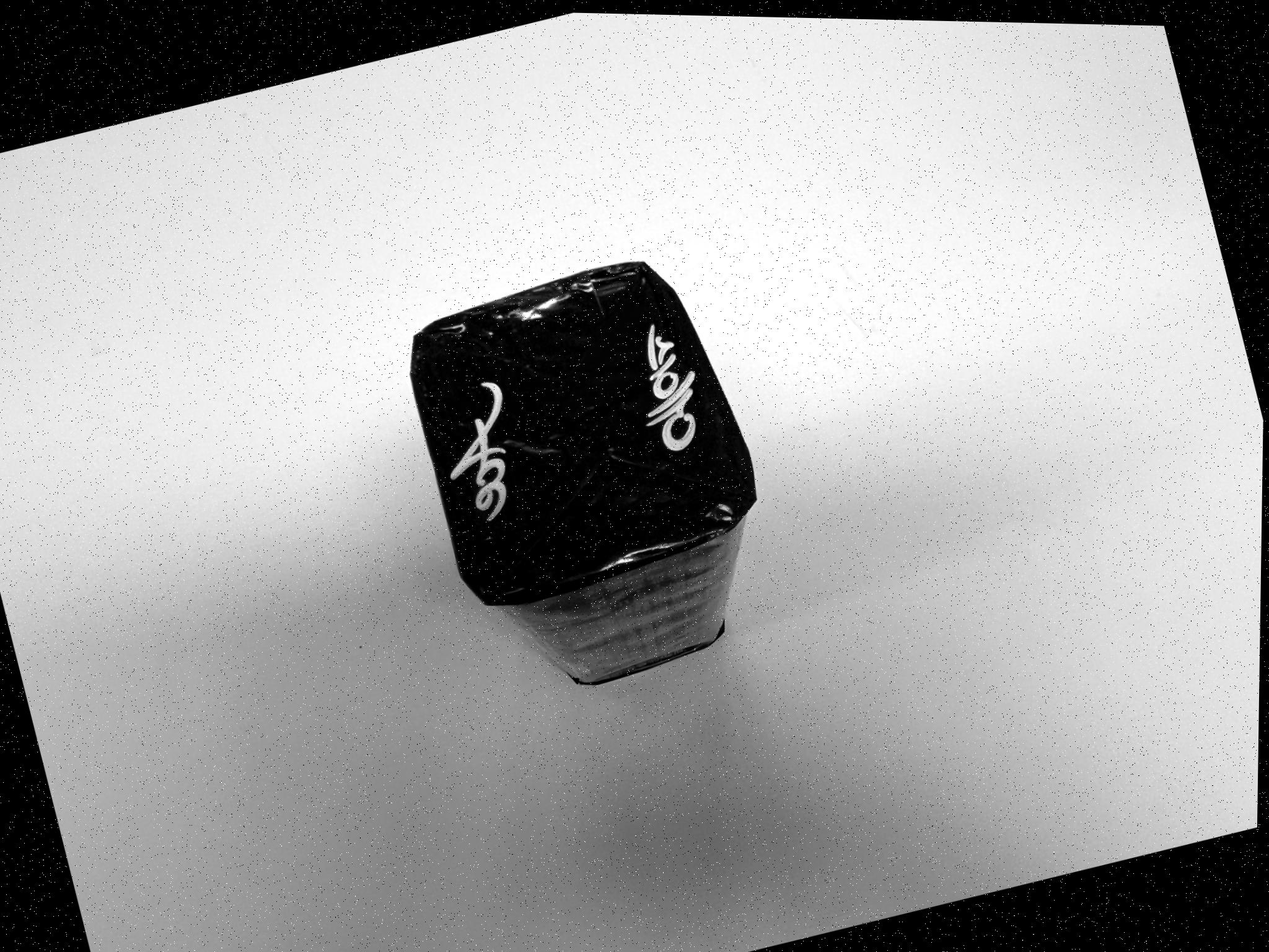cracker_ace: (412, 260, 761, 687)
